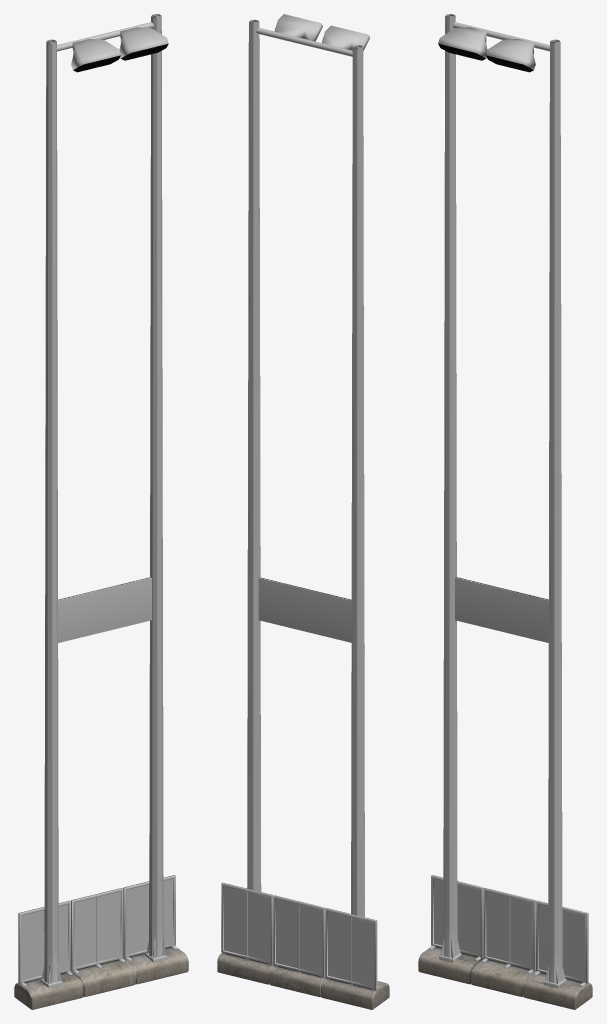
File: scheinwerfer_mast_02.fbx
3 views of the same model, side by side, from view 1: azimuth 30°, elevation 25°; view 2: azimuth 150°, elevation 25°; view 3: azimuth 330°, elevation 25° (orthographic).
Parts seen in each view (by area): view 1: Mesh_ncl1_2, Mesh_ncl1_1, Mesh; view 2: Mesh_ncl1_2, Mesh_ncl1_1, Mesh; view 3: Mesh_ncl1_2, Mesh_ncl1_1, Mesh.
Boxes of the visible parts, box(x1,y1,x2,y2) form: Mesh_ncl1_2: box(19, 14, 188, 1009); Mesh_ncl1_1: box(14, 876, 187, 1009); Mesh: box(70, 888, 135, 996); Mesh_ncl1_2: box(217, 14, 375, 1009); Mesh_ncl1_1: box(218, 882, 389, 1009); Mesh: box(269, 895, 325, 997); Mesh_ncl1_2: box(419, 14, 592, 1009); Mesh_ncl1_1: box(418, 876, 588, 1009); Mesh: box(471, 888, 535, 996).
Size of the model in its own units: 453 by 2638 by 167.
